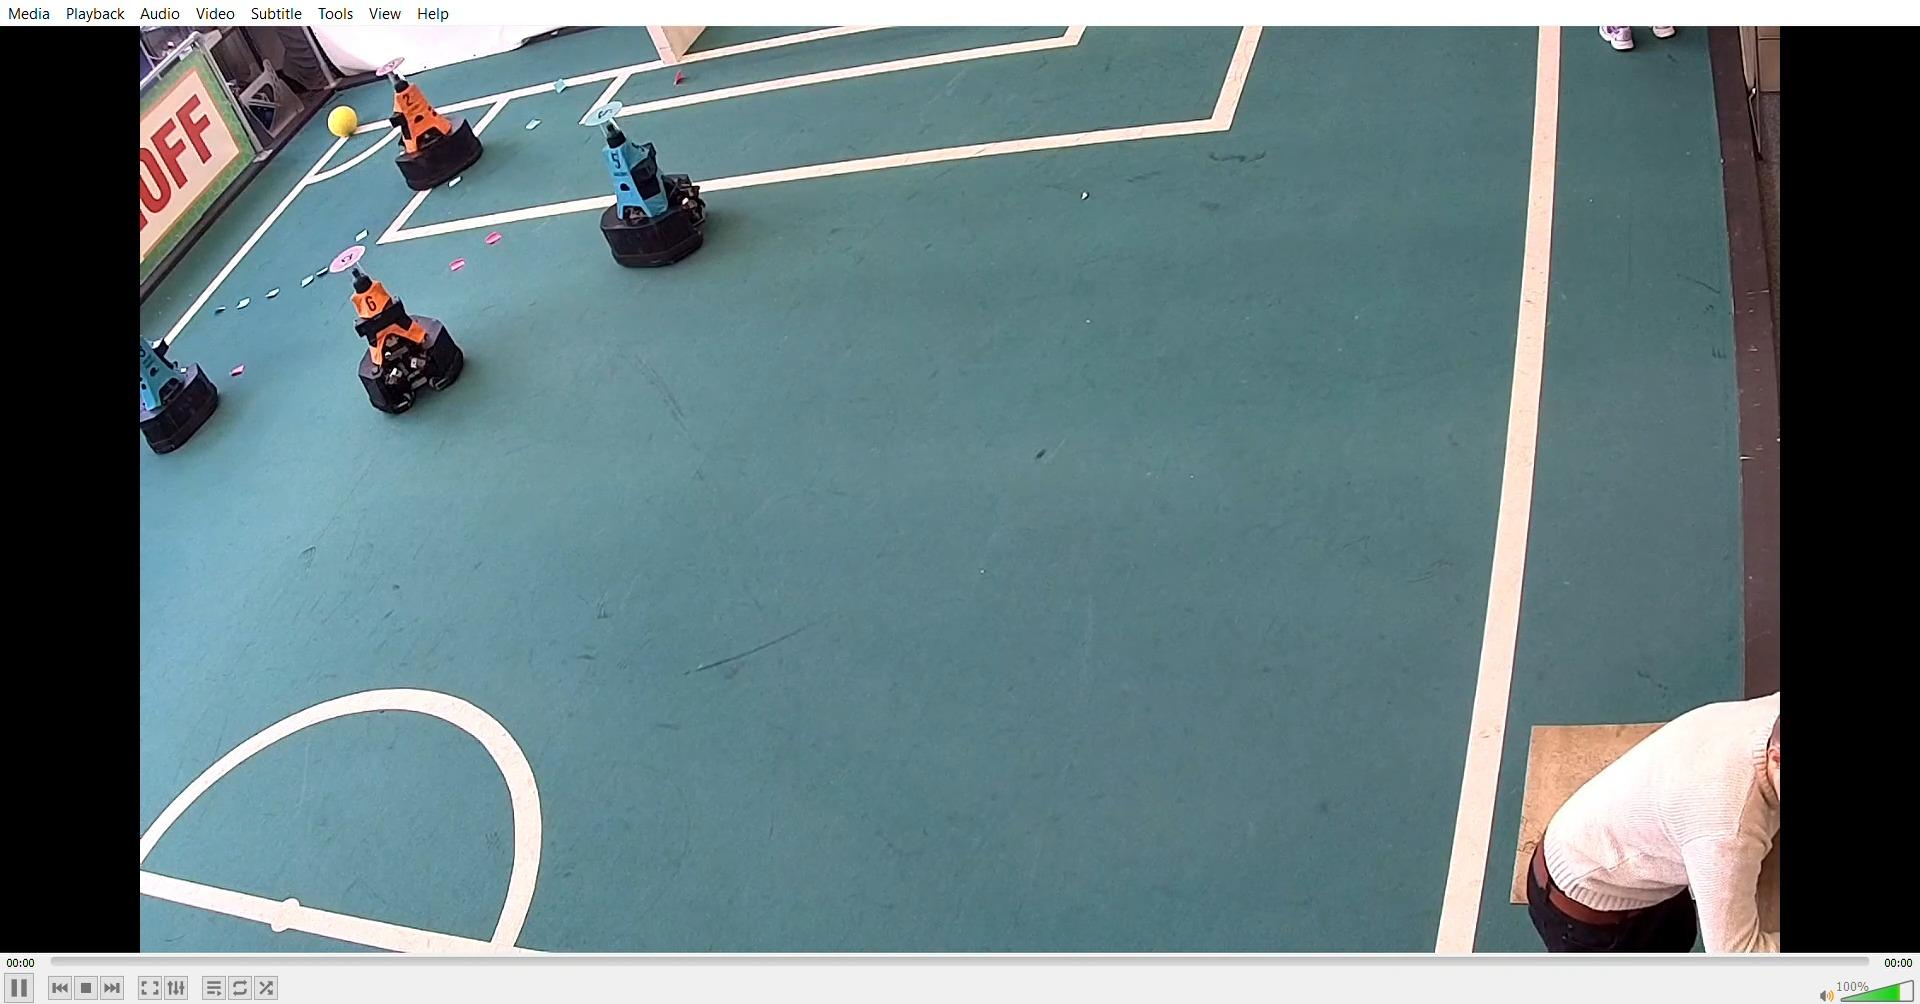Ball: (334, 104, 368, 136)
Team_Blue: (580, 91, 720, 272), (140, 315, 236, 451)
Team_Red: (325, 234, 469, 413), (381, 55, 488, 193)
